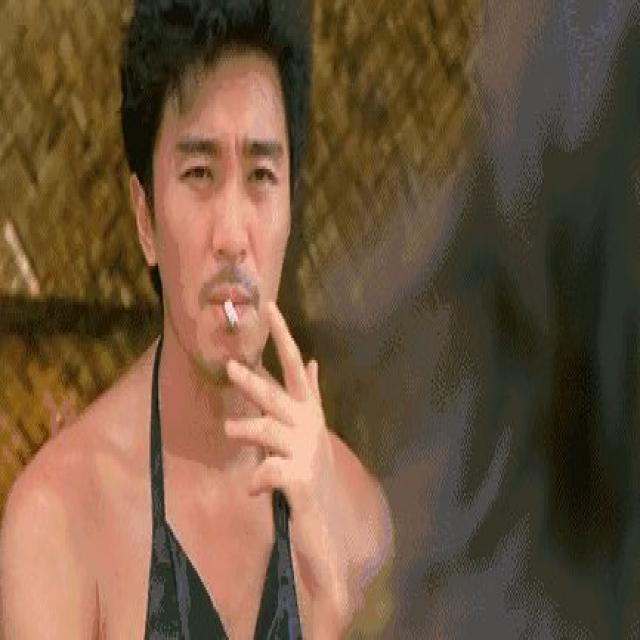smoke: (215, 282, 241, 338)
